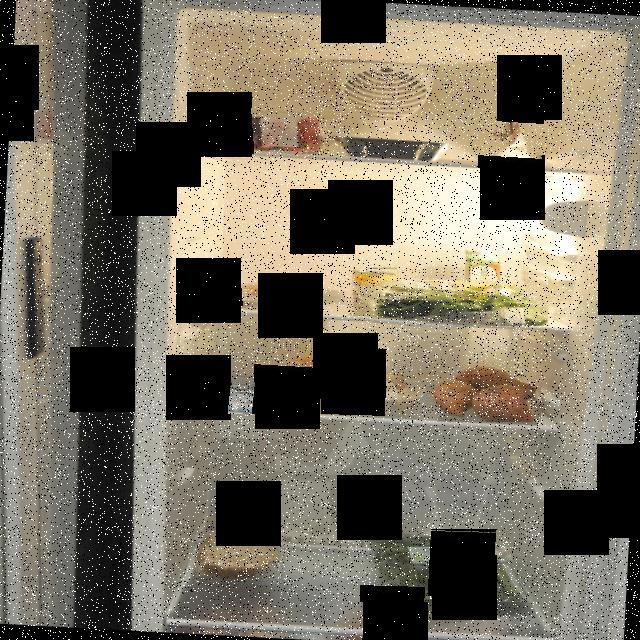bread: (198, 526, 288, 586)
chocolate: (204, 379, 276, 414)
corn: (346, 265, 398, 314)
flour: (477, 106, 544, 168)
green_beans: (360, 528, 529, 602)
heavy_cream: (462, 244, 504, 313)
mushrooms: (322, 362, 422, 416)
potato: (254, 344, 356, 396)
shrimp: (235, 282, 312, 306)
spinach: (354, 268, 548, 326)
strawberries: (216, 108, 336, 155)
sweet_potato: (426, 356, 541, 422)
